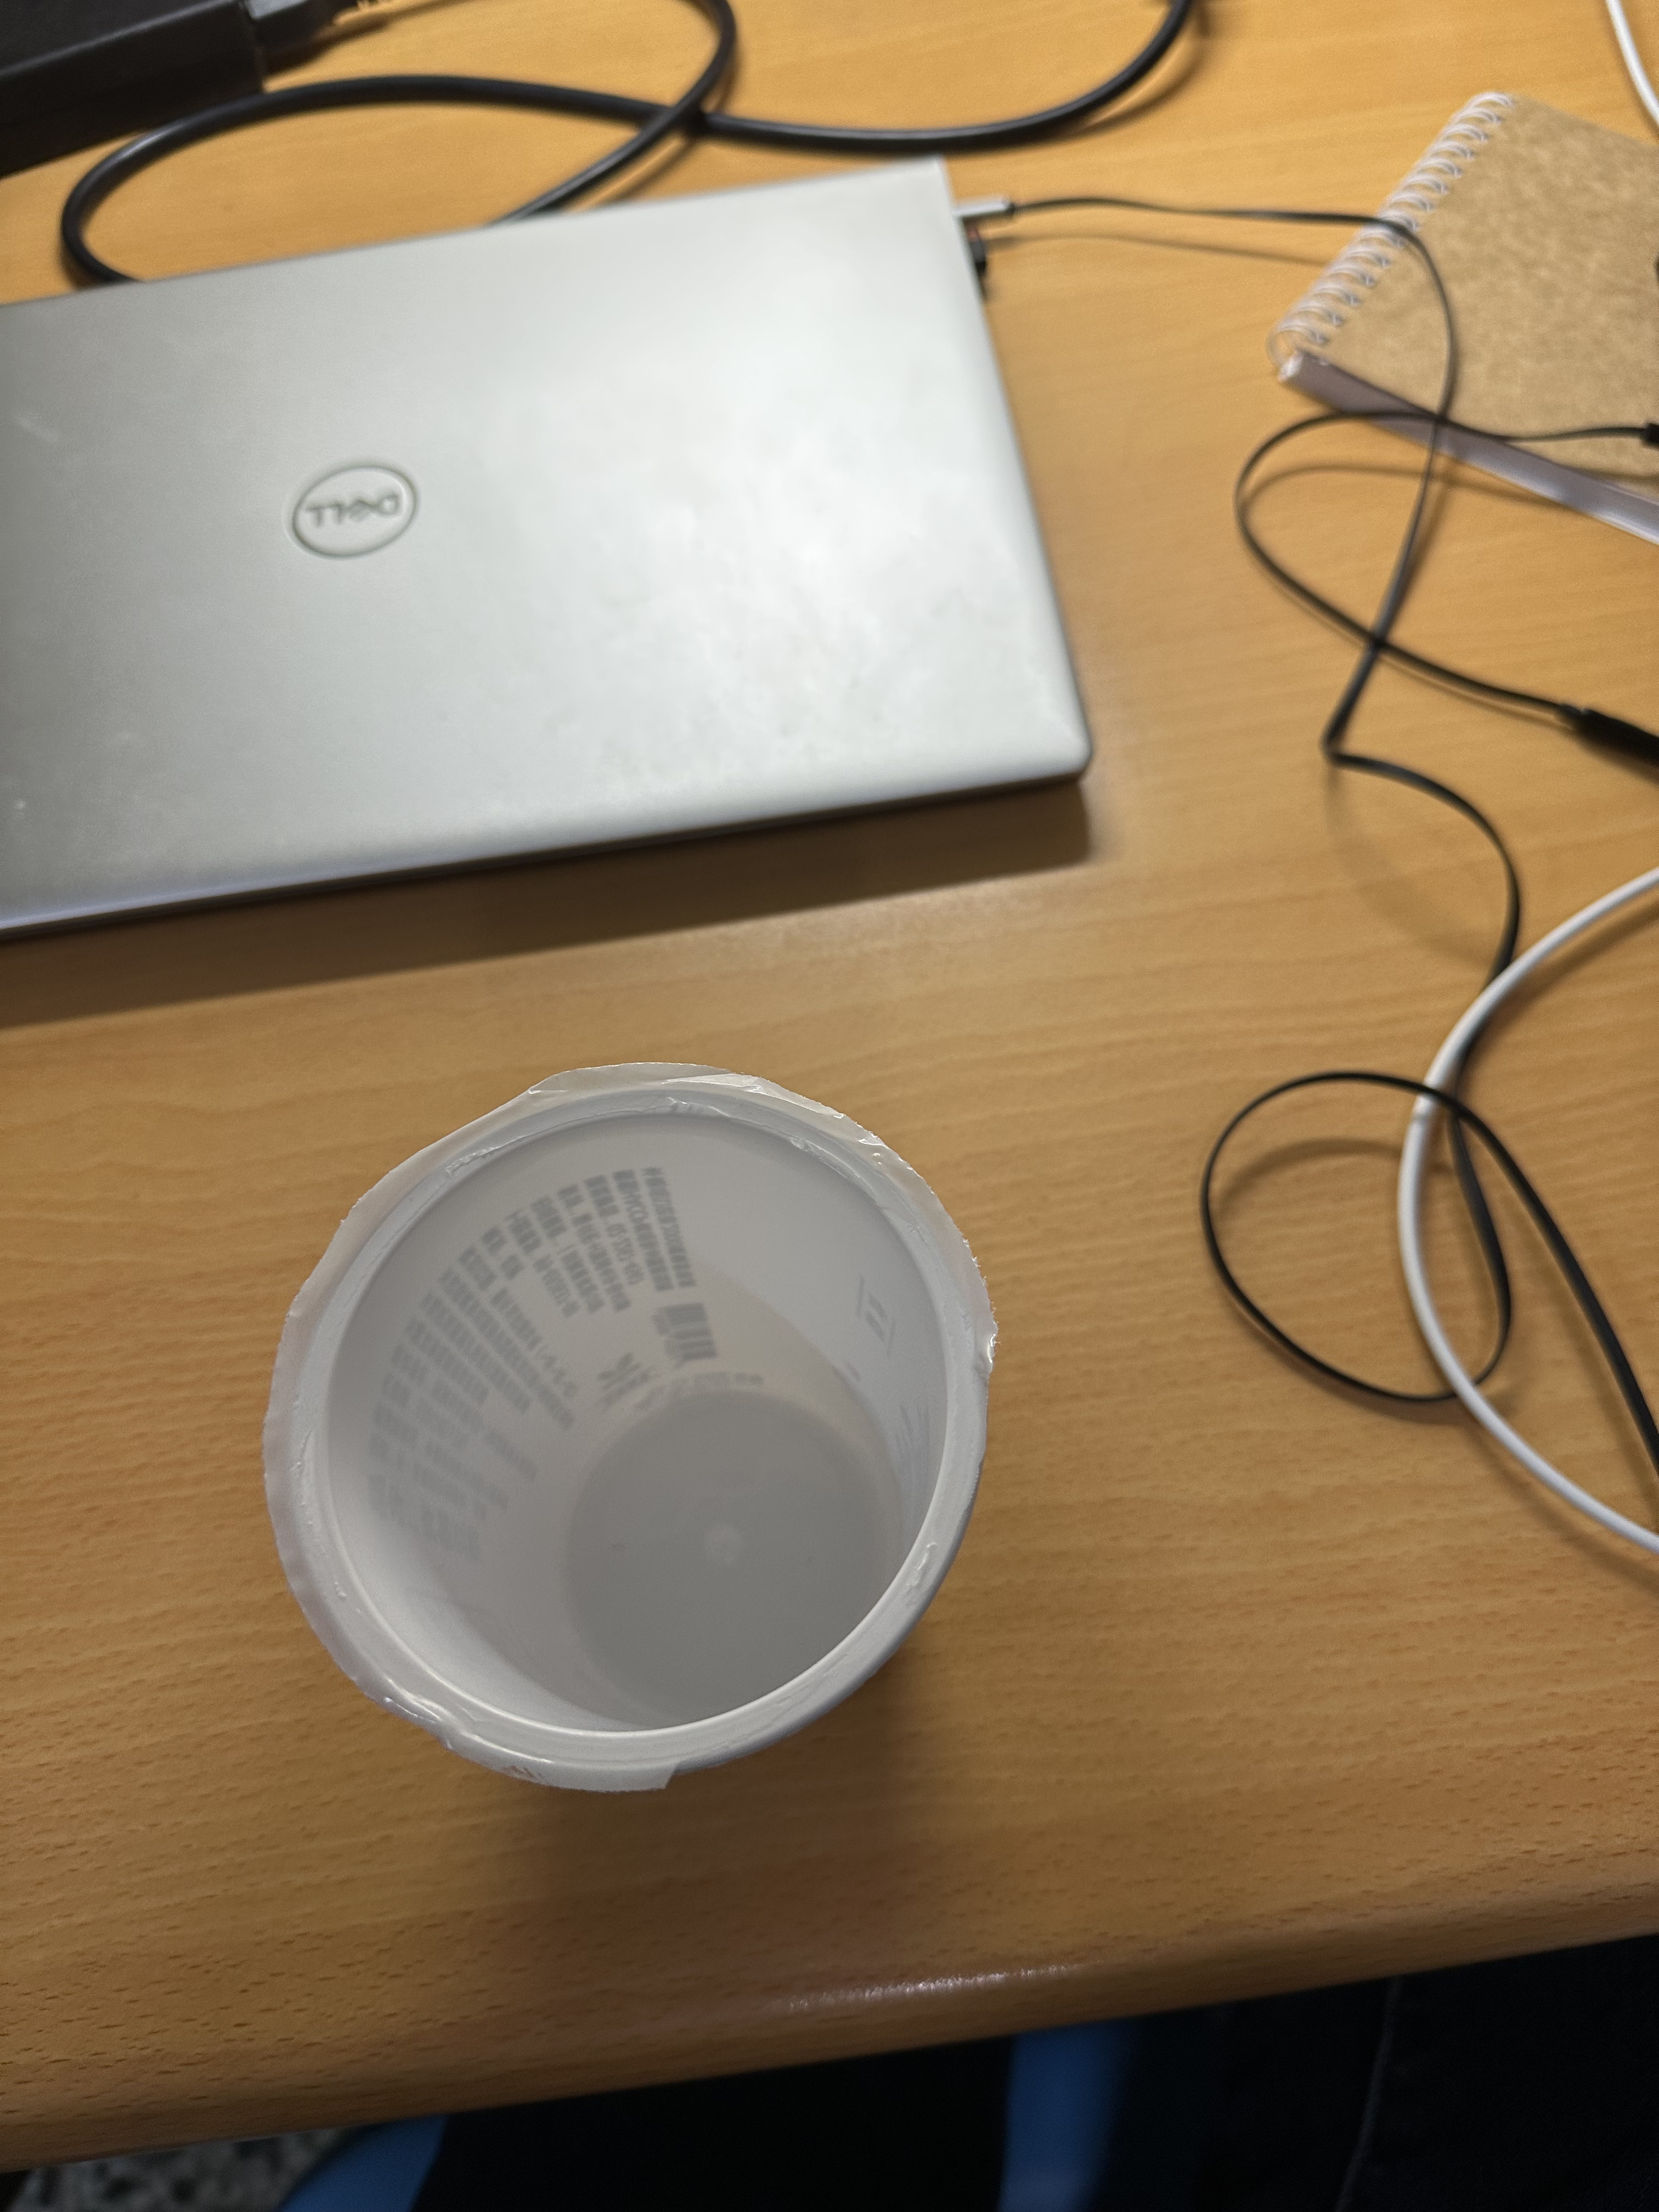cup: (265, 1069, 1002, 1792)
